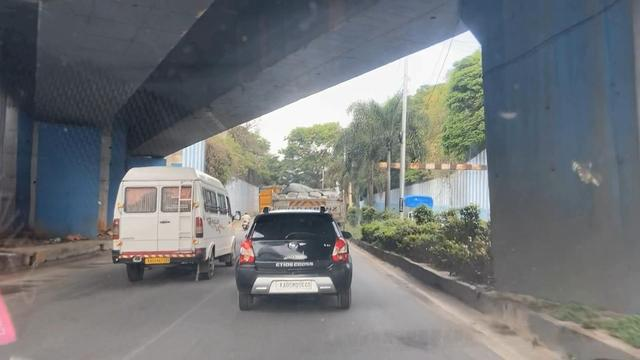HMV: (113, 164, 237, 284), (260, 185, 346, 261)
LMV: (230, 201, 357, 316)
